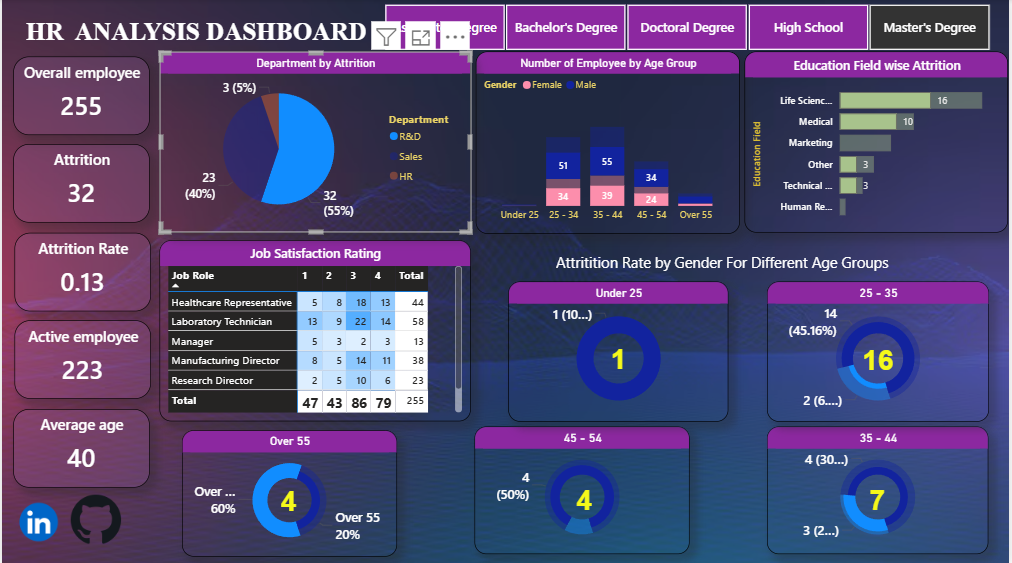

The page's visual inventory and layout, read from the dashboard file:
{"tool":"powerbi","page":{"name":"Page 1","canvas":[1280,720],"ordinal":0},"visuals":[{"type":"card","title":"Overall employee","fields":{"Values":["Sum(HR data.Employee Count)"]},"box":[14.3,73.1,173.3,100],"z":0},{"type":"card","title":"Attrition","fields":{"Values":["Sum(HR data.Attition count)"]},"box":[14.3,185.2,173.3,100],"z":1000},{"type":"card","title":"Attrition Rate","fields":{"Values":["HR data.attrition rate"]},"box":[15.9,297.3,173.3,100],"z":2000},{"type":"card","title":"Active employee","fields":{"Values":["HR data.New employees"]},"box":[15.9,409.4,173.3,100],"z":3000},{"type":"card","title":"Average age","fields":{"Values":["Avg(HR data.Age)"]},"box":[14.3,521.4,173.2,100],"z":4000},{"type":"textbox","box":[25.4,17.5,453.2,66.8],"z":5000},{"type":"pieChart","title":"Department by Attrition","fields":{"Category":["HR data.Department"],"Y":["Sum(HR data.Attition count)"]},"box":[200.4,66.8,395.9,230.6],"z":6000},{"type":"columnChart","title":"Number of Employee by Age Group","fields":{"Category":["HR data.CF_age band"],"Y":["Sum(HR data.Employee Count)"],"Series":["HR data.Gender"]},"box":[602.5,66.1,335.7,232.1],"z":7000},{"type":"pivotTable","title":"Job Satisfaction Rating","fields":{"Rows":["HR data.Job Role"],"Columns":["HR data.Job Satisfaction"],"Values":["Sum(HR data.Employee Count)"]},"box":[200.4,306.9,395.9,230.6],"z":8000},{"type":"barChart","title":"Education Field wise Attrition","fields":{"Category":["HR data.Education Field"],"Y":["Sum(HR data.Attition count)"]},"box":[944.5,66.8,335.5,230.6],"z":9000},{"type":"donutChart","title":"35 - 44","fields":{"Category":["HR data.Gender"],"Y":["Sum(HR data.Attition count)"],"Series":["HR data.CF_age band"]},"box":[973.2,543.8,281.5,162.2],"z":10000},{"type":"textbox","box":[699.7,318,472.3,38.2],"z":11000},{"type":"donutChart","title":"45 - 54","fields":{"Category":["HR data.Gender"],"Y":["Sum(HR data.Attition count)"],"Series":["HR data.CF_age band"]},"box":[600.7,543.8,273.5,162.2],"z":12000},{"type":"donutChart","title":"25 - 35","fields":{"Category":["HR data.Gender"],"Y":["Sum(HR data.Attition count)"],"Series":["HR data.CF_age band"]},"box":[973.2,358.9,282.1,178.6],"z":13000},{"type":"donutChart","title":"Over 55","fields":{"Category":["HR data.Gender"],"Y":["Sum(HR data.Attition count)"],"Series":["HR data.CF_age band"]},"box":[228.6,548.2,273.2,160.7],"z":14000},{"type":"donutChart","title":"Under 25","fields":{"Category":["HR data.Gender"],"Y":["Sum(HR data.Attition count)"],"Series":["HR data.CF_age band"]},"box":[644.6,358.9,280.4,178.6],"z":15000},{"type":"slicer","fields":{"Values":["HR data.Education"]},"box":[461.1,0,818.9,71.6],"z":16000},{"type":"advanceCardE03760C5AB684758B56AA29F9E6C257B","fields":{"mainMeasure":["Sum(HR data.Attition count)"]},"box":[741.1,423.2,87.5,71.4],"z":17000},{"type":"advanceCardE03760C5AB684758B56AA29F9E6C257B","fields":{"mainMeasure":["Sum(HR data.Attition count)"]},"box":[1026.8,557.1,173.2,162.5],"z":18000},{"type":"advanceCardE03760C5AB684758B56AA29F9E6C257B","fields":{"mainMeasure":["Sum(HR data.Attition count)"]},"box":[653.6,557.1,175,162.5],"z":19000},{"type":"advanceCardE03760C5AB684758B56AA29F9E6C257B","fields":{"mainMeasure":["Sum(HR data.Attition count)"]},"box":[1071.4,423.2,85.7,73.2],"z":20000},{"type":"image","box":[14.3,619.6,65,90],"z":21000},{"type":"image","box":[87.5,625,64.3,75],"z":22000},{"type":"advanceCardE03760C5AB684758B56AA29F9E6C257B","fields":{"mainMeasure":["Sum(HR data.Attition count)"]},"box":[300.9,587.8,128.3,102.6],"z":23000}]}

Visuals, with their boxes in screenshot pixels (x1, y1, x2, y2), scaled from the page's 1280x720 canvas onto the 1012x563 screenshot:
"Overall employee" card: 11/57/148/135
"Attrition" card: 11/145/148/223
"Attrition Rate" card: 13/232/150/311
"Active employee" card: 13/320/150/398
"Average age" card: 11/408/148/486
textbox: 20/14/378/66
"Department by Attrition" pieChart: 158/52/471/233
"Number of Employee by Age Group" columnChart: 476/52/742/233
"Job Satisfaction Rating" pivotTable: 158/240/471/420
"Education Field wise Attrition" barChart: 747/52/1011/233
"35 - 44" donutChart: 769/425/992/552
textbox: 553/249/927/279
"45 - 54" donutChart: 475/425/691/552
"25 - 35" donutChart: 769/281/992/420
"Over 55" donutChart: 181/429/397/554
"Under 25" donutChart: 510/281/731/420
slicer - HR data.Education: 365/0/1011/56
advanceCardE03760C5AB684758B56AA29F9E6C257B - Sum(HR data.Attition count): 586/331/655/387
advanceCardE03760C5AB684758B56AA29F9E6C257B - Sum(HR data.Attition count): 812/436/949/562
advanceCardE03760C5AB684758B56AA29F9E6C257B - Sum(HR data.Attition count): 517/436/655/562
advanceCardE03760C5AB684758B56AA29F9E6C257B - Sum(HR data.Attition count): 847/331/915/388
image: 11/484/63/555
image: 69/489/120/547
advanceCardE03760C5AB684758B56AA29F9E6C257B - Sum(HR data.Attition count): 238/460/339/540
